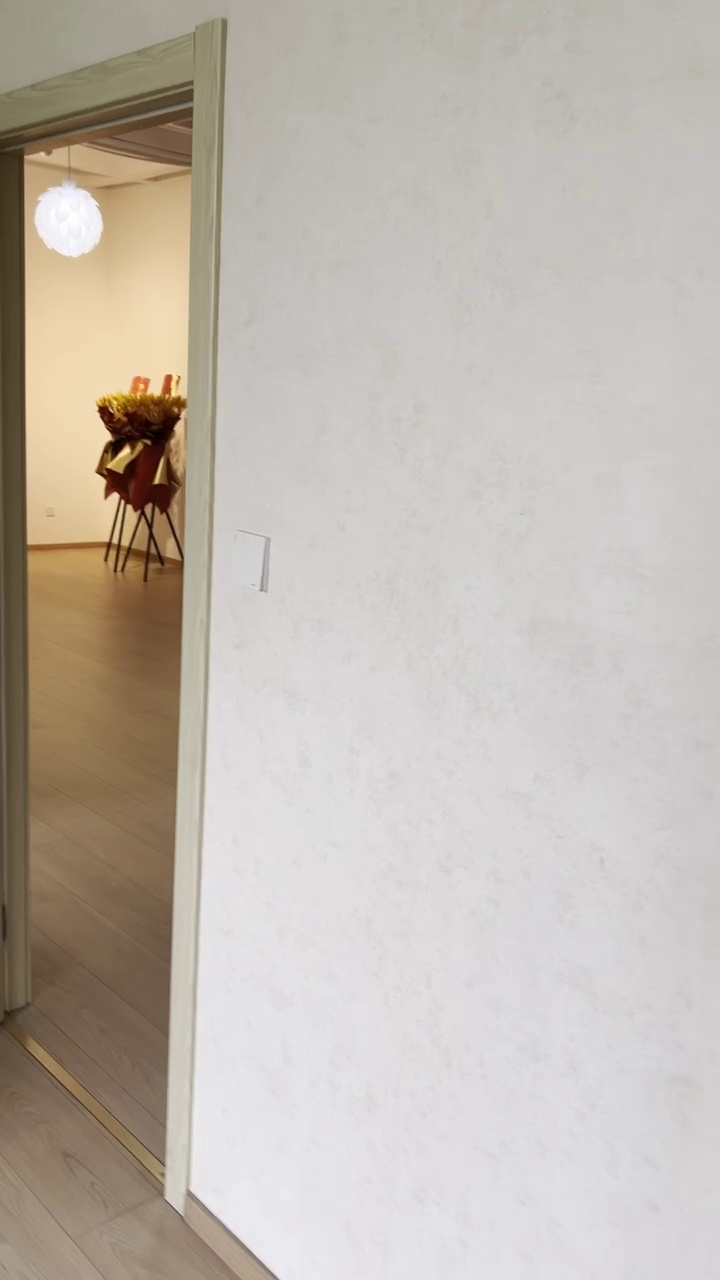button: (227, 531, 272, 595)
